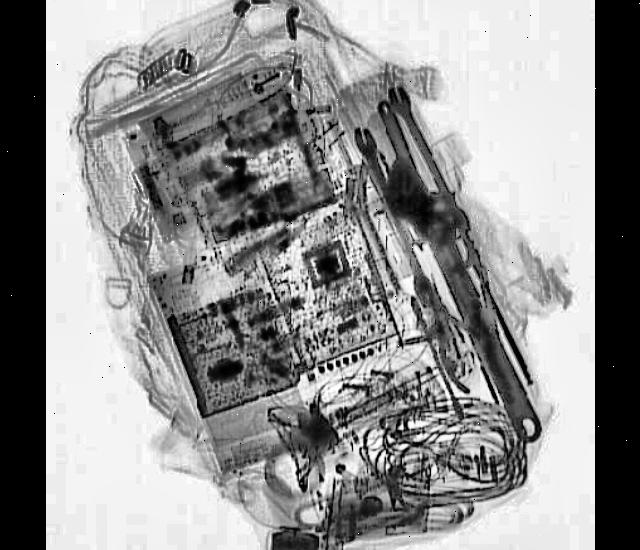Pliers: (397, 264, 491, 400)
Wrench: (408, 197, 544, 451), (348, 123, 436, 311), (384, 82, 471, 237)
